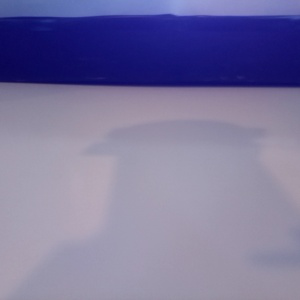zone: (1, 13, 300, 86)
